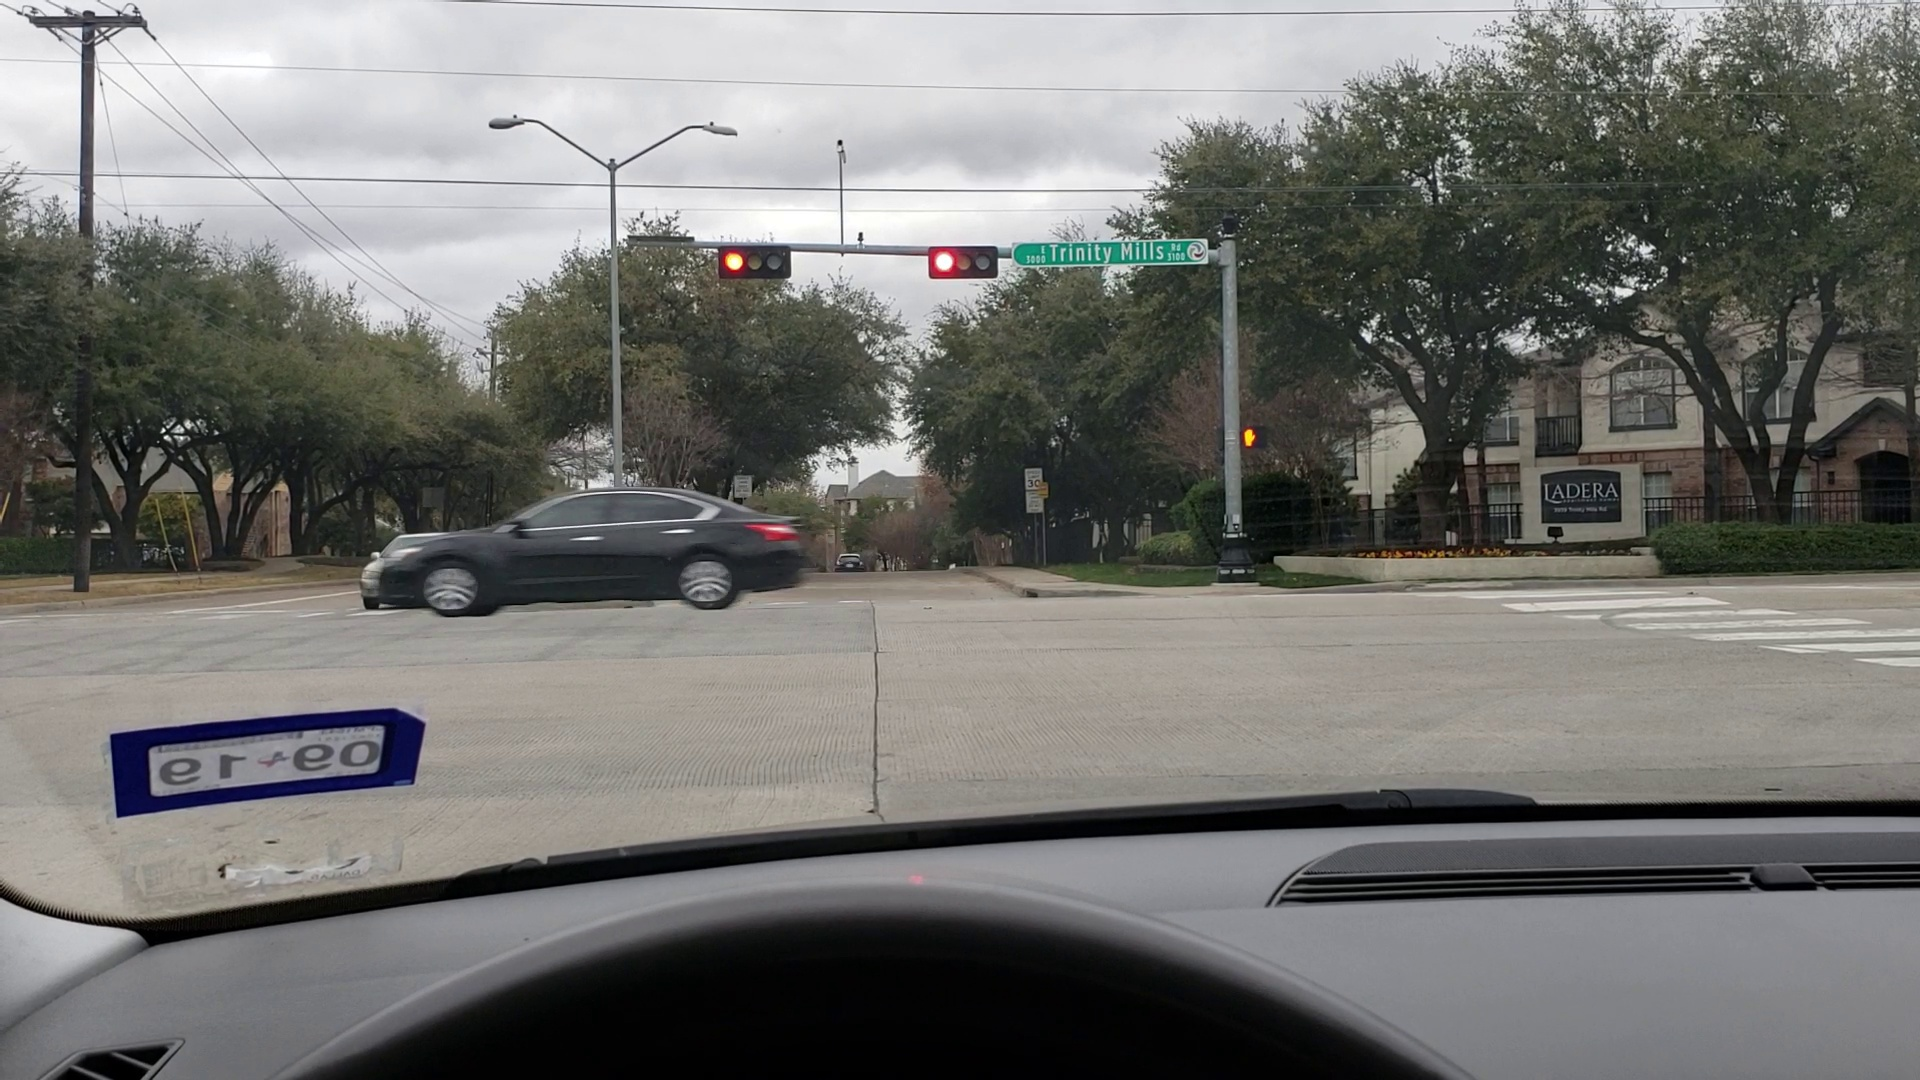car: (375, 500, 808, 626), (363, 512, 471, 605), (832, 549, 862, 571)
traffic light: (715, 243, 796, 281), (931, 244, 997, 278)
